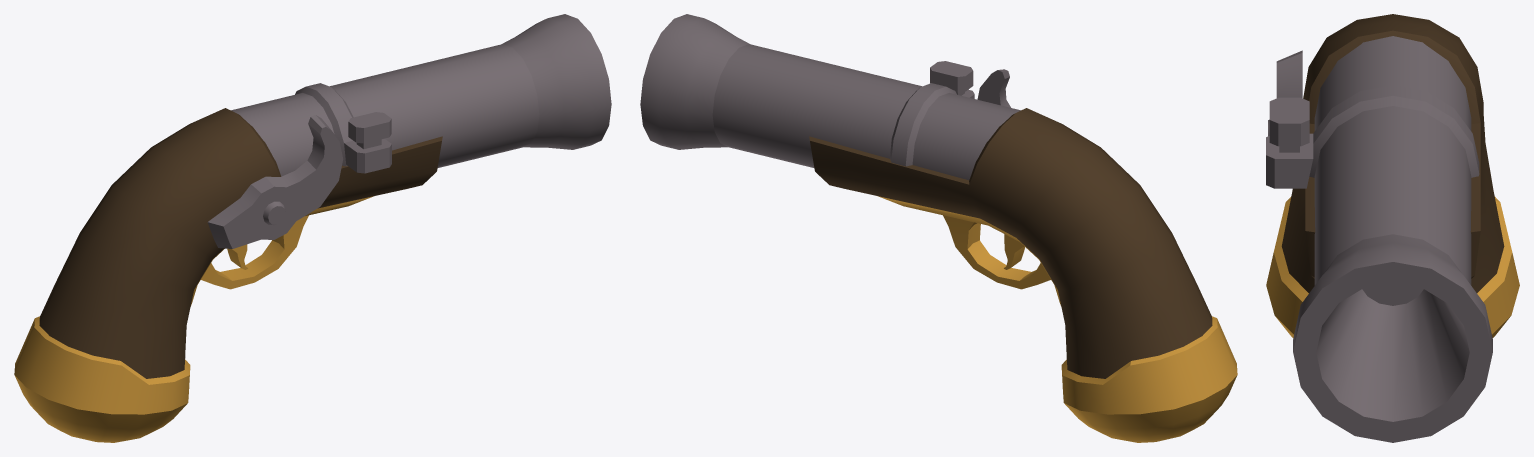
The model's file is pistol.glb.
The picture shows the model from 3 angles, left to right: view 1: azimuth 30°, elevation 25°; view 2: azimuth 150°, elevation 25°; view 3: azimuth 270°, elevation 25°; orthographic projection. The views are drawn at different scales.
Visible parts, largest first — view 1: Weapon_Pistol; view 2: Weapon_Pistol; view 3: Weapon_Pistol.
Part boxes in pixels (box(x1,y1,x2,y2)): Weapon_Pistol: box(14, 14, 611, 442); Weapon_Pistol: box(640, 14, 1237, 442); Weapon_Pistol: box(1266, 14, 1519, 442).
Bounding box in the file's own units: 1.24 × 0.6451 × 0.3342.
